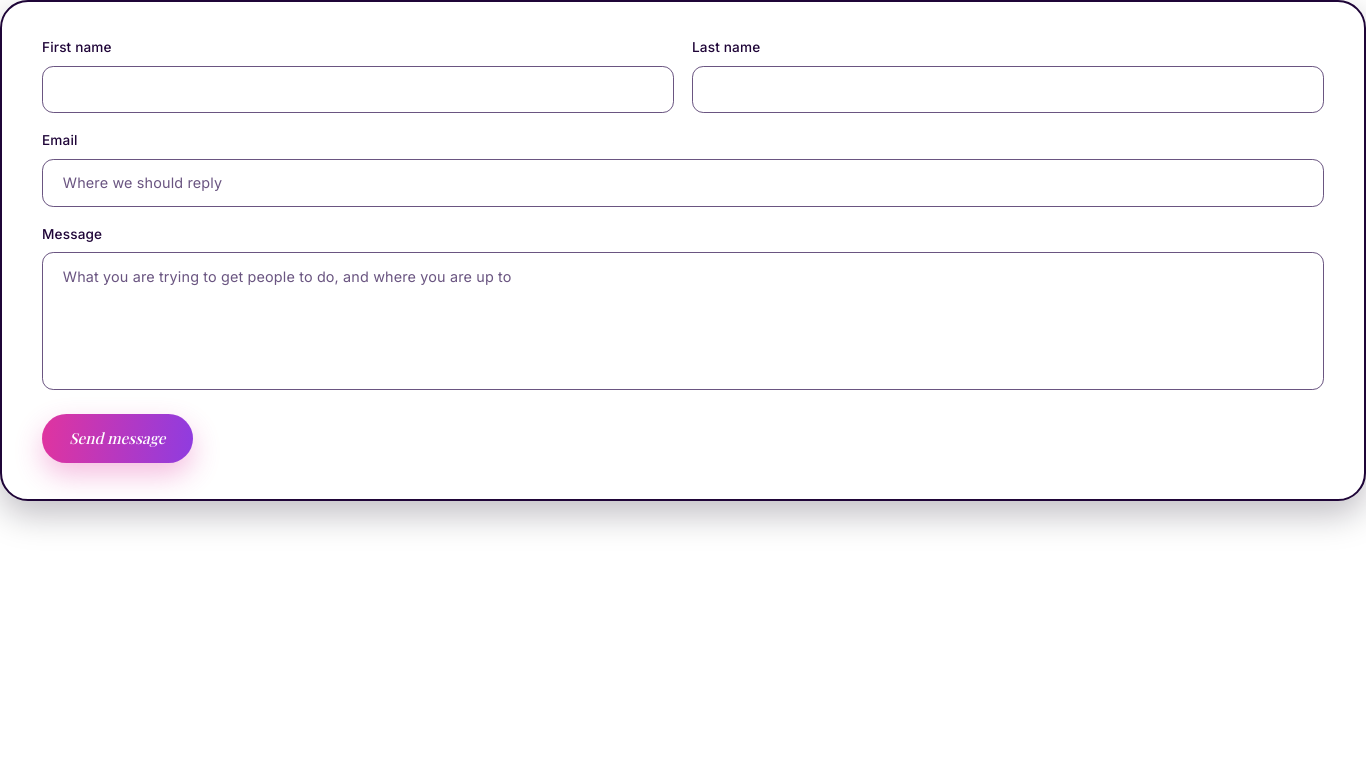
a message that is not worth sending yet › sends nothing, and says what is wrong under the field it is wrong on
Click the button "Send message" at (117, 438), box x1=42 y1=414 x2=192 y2=463
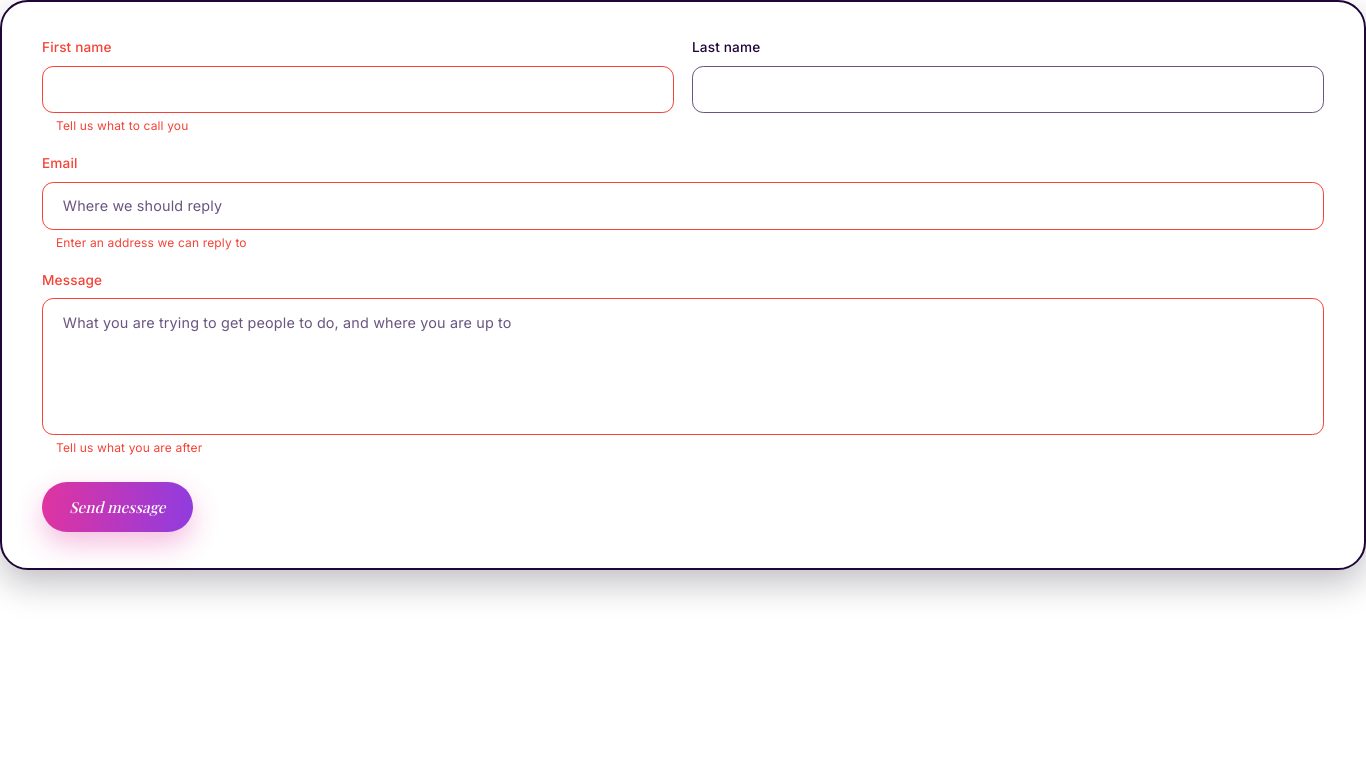
Expected: the text "Tell us what to call you" is shown, x1=56 y1=118 x2=188 y2=133
Expected: the text "Enter an address we can reply to" is shown, x1=56 y1=235 x2=247 y2=250
Expected: the text "Tell us what you are after" is shown, x1=56 y1=440 x2=202 y2=455
